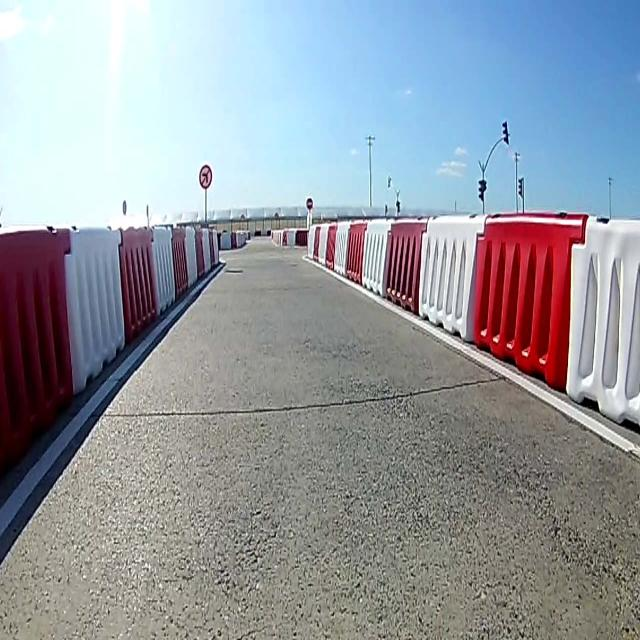girisyok: (306, 197, 312, 210)
soladonulmez: (198, 164, 212, 189)
